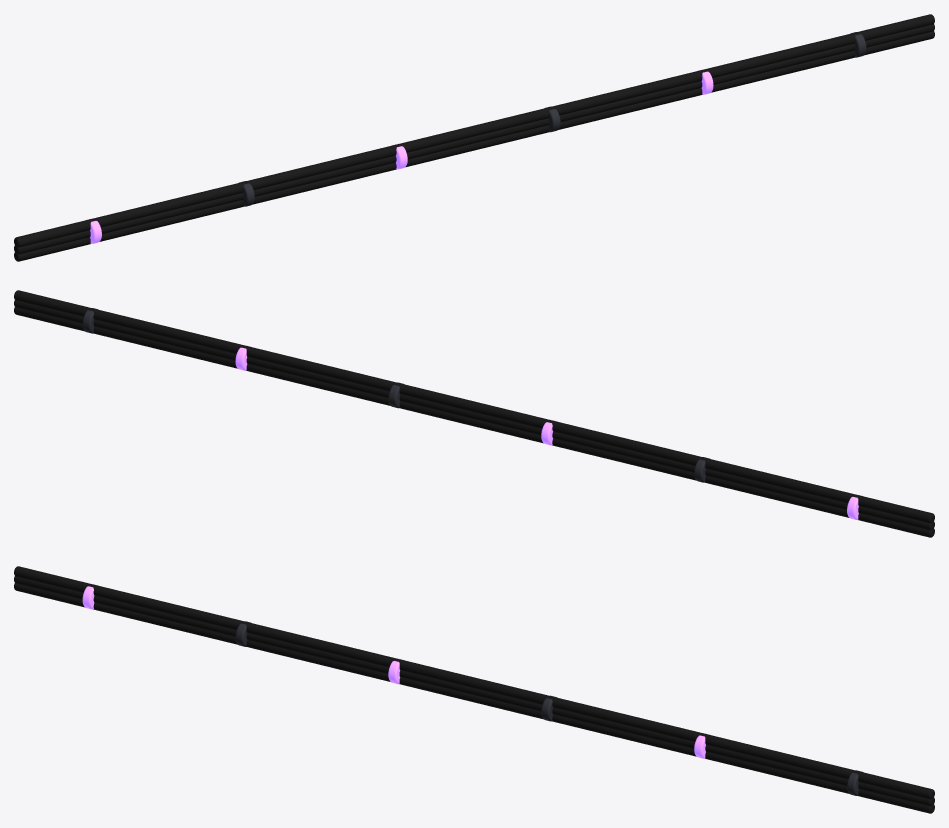
The picture shows the model from 3 angles, top to bottom: view 1: azimuth 30°, elevation 25°; view 2: azimuth 150°, elevation 25°; view 3: azimuth 330°, elevation 25°; orthographic projection.
Parts seen in each view (by area): view 1: part_016; view 2: part_016; view 3: part_016.
Boxes of the visible parts, x1,y1,x2,y2 form: part_016: (14,14,934,261); part_016: (14,290,934,537); part_016: (14,566,934,813).
Bounding box in the file's own units: 3.3 × 0.0816 × 0.0784.
